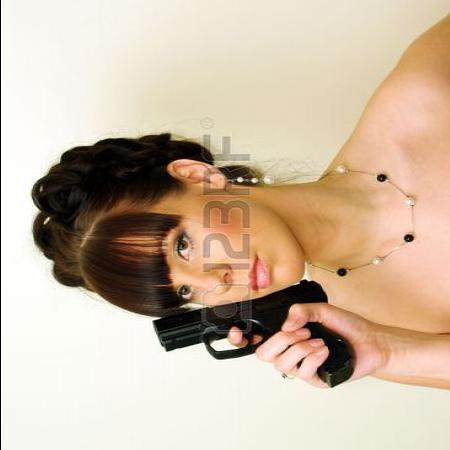Pistol: (135, 281, 341, 389)
